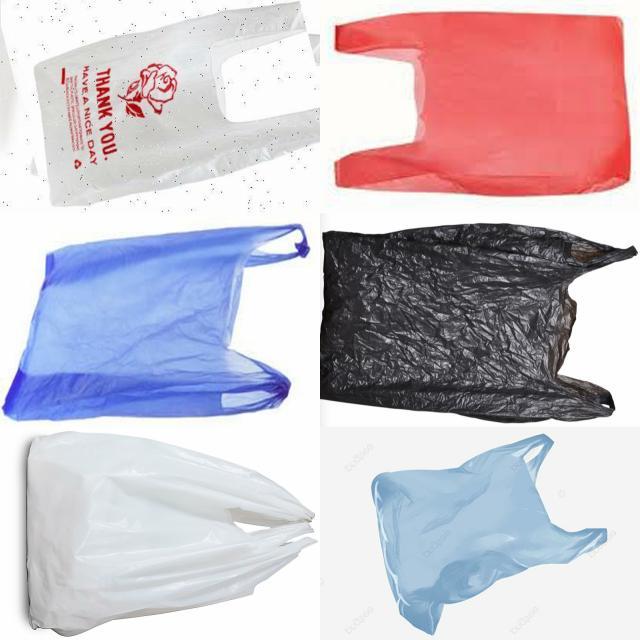Single-layer Plastic: (320, 224, 635, 421), (4, 225, 309, 420), (34, 2, 318, 206), (28, 432, 313, 635), (335, 12, 630, 195), (372, 434, 607, 634)
